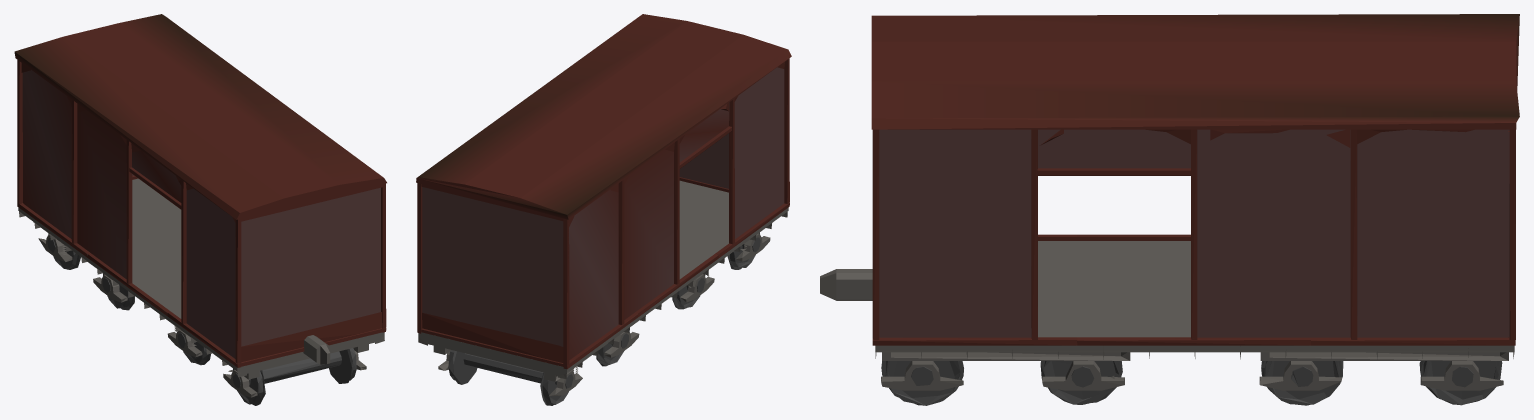
File: boxcar.lod2.glb
3 renders of one model, left to right at view 1: azimuth 30°, elevation 25°; view 2: azimuth 150°, elevation 25°; view 3: azimuth 270°, elevation 25°, orthographic. The views are drawn at different scales.
Bounding box in the file's own units: 4.72 × 6.42 × 13.
